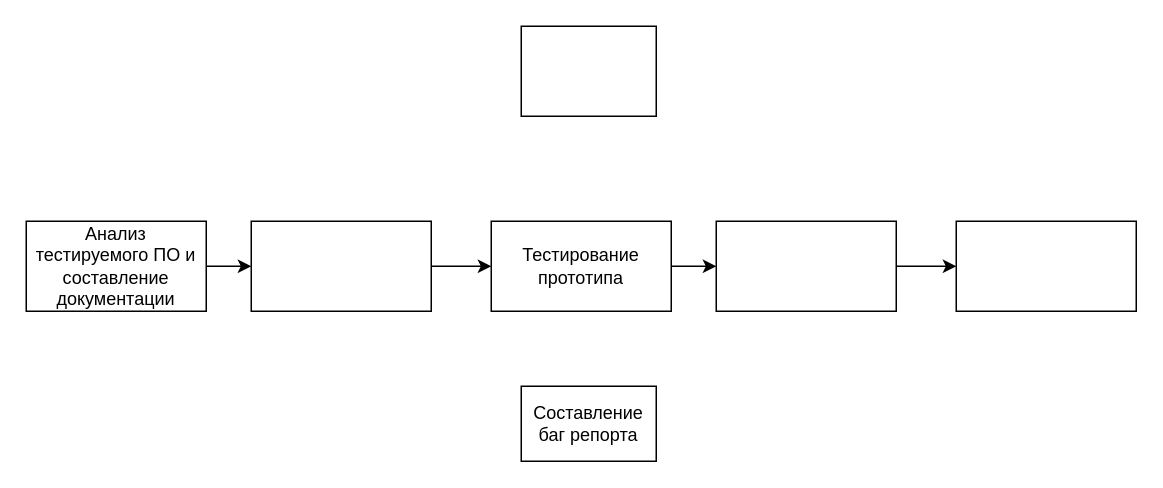
The diagram is 1163 pixels wide and 488 high, and some of its shapes have lost their labels. Here are the shapes that lost their labels. From the top down, the centre of each, then its label:
At pixel 340 265: "Планирование тестирования, составление test-case".
At pixel 805 265: "Основное тестирование".
